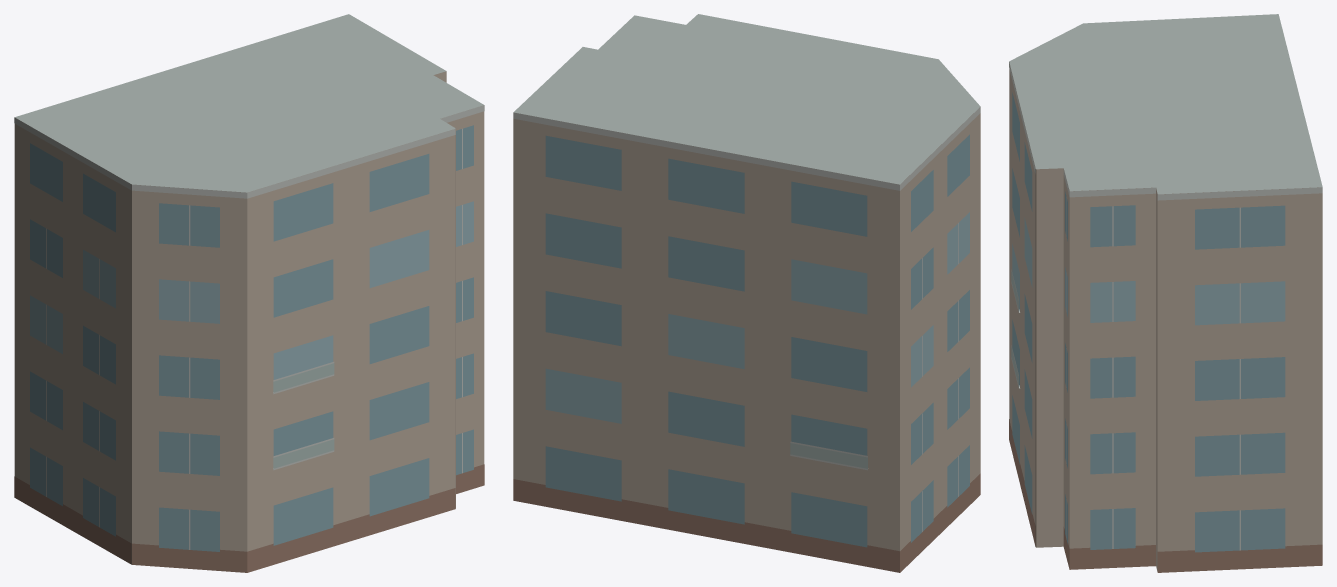
File: survey-upis-33018734.glb
The picture shows the model from 3 angles, left to right: view 1: azimuth 30°, elevation 25°; view 2: azimuth 150°, elevation 25°; view 3: azimuth 270°, elevation 25°; orthographic projection. The views are drawn at different scales.
Visible parts, largest first — view 1: survey-upis-33018734.tmp; view 2: survey-upis-33018734.tmp; view 3: survey-upis-33018734.tmp.
Boxes of the visible parts, <box> form: survey-upis-33018734.tmp: <box>14,14,484,572</box>; survey-upis-33018734.tmp: <box>513,14,980,572</box>; survey-upis-33018734.tmp: <box>1009,14,1322,572</box>.
Size of the model in its own units: 15.45 by 15.1 by 11.35.
